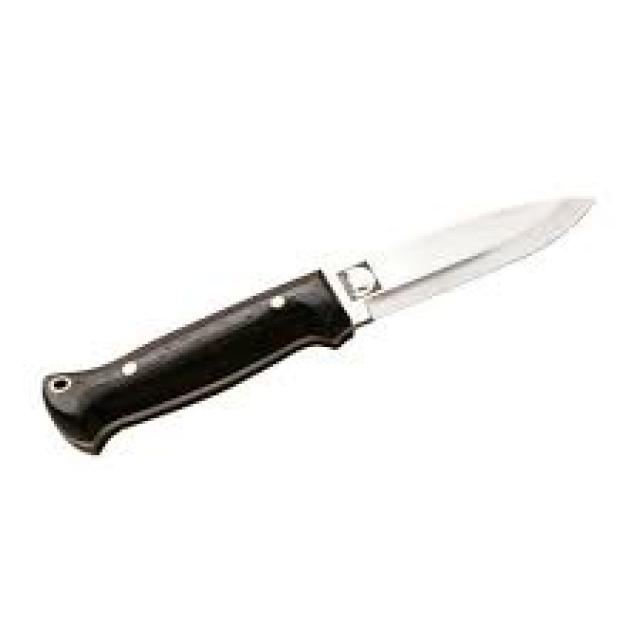knife: (35, 181, 602, 473)
